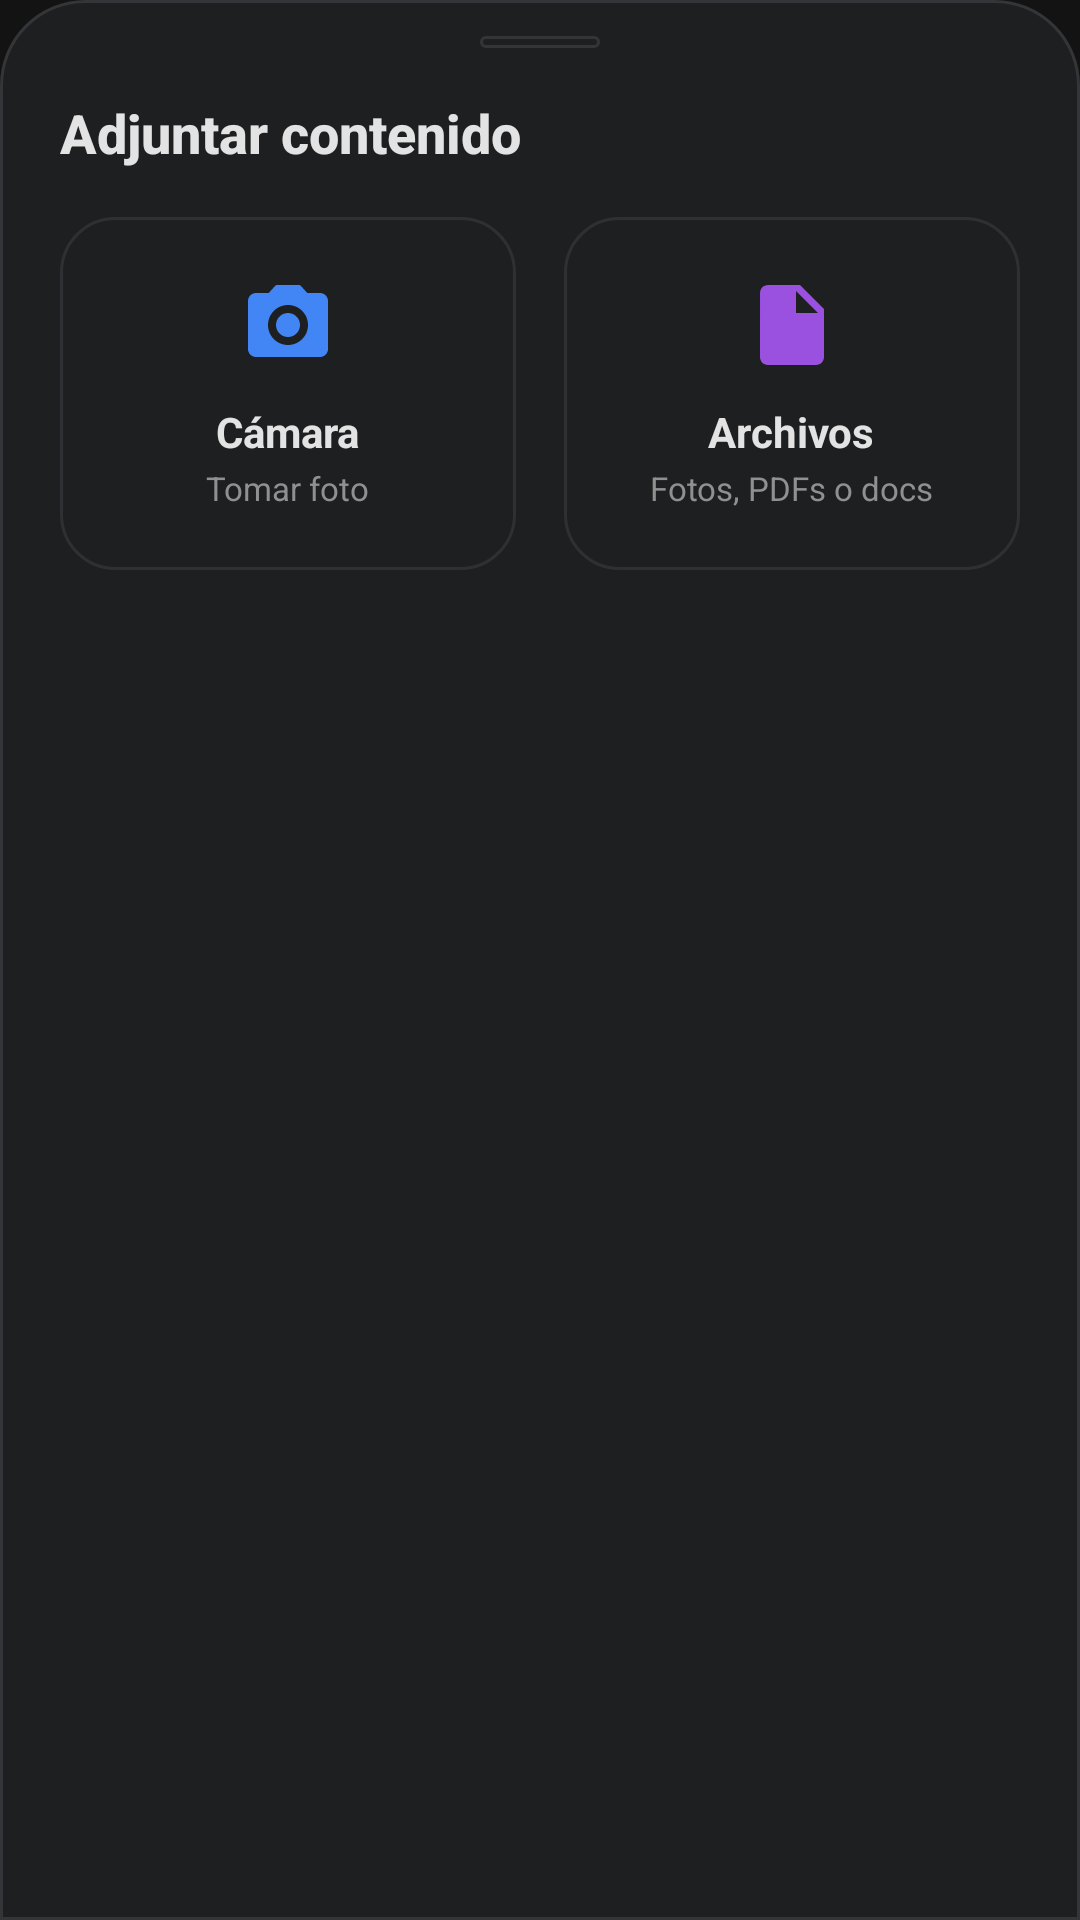

Where icons sit on this 1080px x 1920px app screen, as box=[x1, y1, x2, y2]:
camera: box=[248, 285, 328, 357]
file: box=[760, 285, 824, 365]
